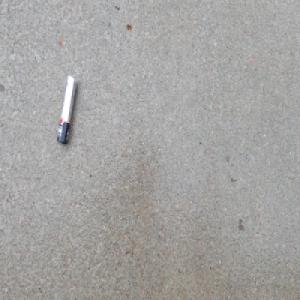Battery: (55, 74, 77, 147)
